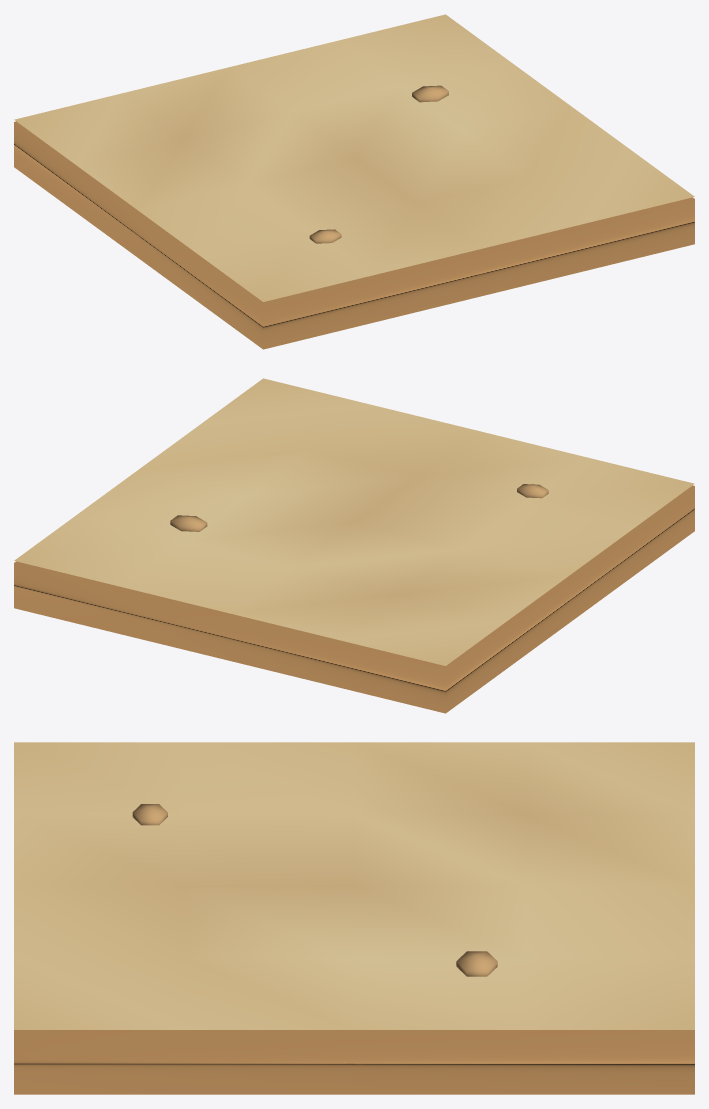
Rendered from tile_dust.glb.
3 renders of one model, top to bottom at view 1: azimuth 30°, elevation 25°; view 2: azimuth 150°, elevation 25°; view 3: azimuth 270°, elevation 25°, orthographic. The views are drawn at different scales.
Parts seen in each view (by area): view 1: Tile.001; view 2: Tile.001; view 3: Tile.001.
Part boxes in pixels (<box>): Tile.001: <box>14,14,694,349</box>; Tile.001: <box>14,378,694,713</box>; Tile.001: <box>14,742,694,1094</box>.
Size of the model in its own units: 1 by 0.1225 by 1.
